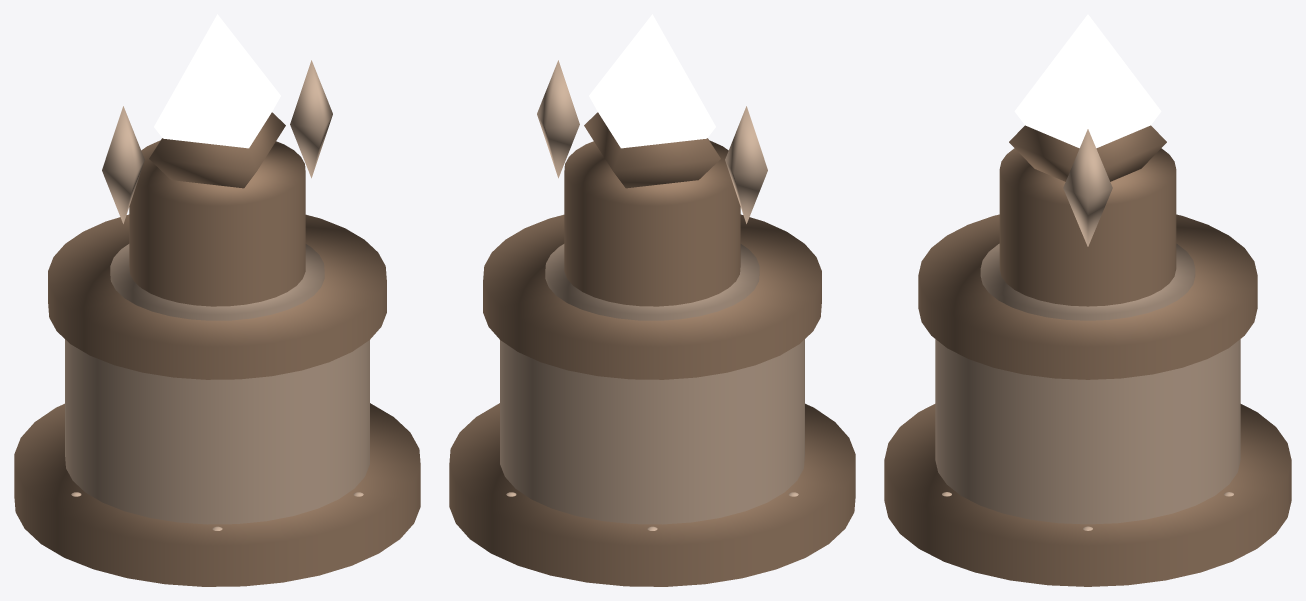
The model's file is arcane_l3.glb.
The picture shows the model from 3 angles, left to right: view 1: azimuth 30°, elevation 25°; view 2: azimuth 150°, elevation 25°; view 3: azimuth 270°, elevation 25°; orthographic projection.
Parts seen in each view (by area): view 1: base, footing, baseCollar, shaft, spinCrystal, support, lowerTrim, shardR, shardL; view 2: base, footing, baseCollar, shaft, spinCrystal, support, lowerTrim, shardR, shardL; view 3: base, footing, baseCollar, shaft, spinCrystal, lowerTrim, support, shardR.
Boxes of the visible parts, bbox=[...] form: base: bbox=[65, 339, 369, 524]; footing: bbox=[14, 403, 420, 586]; baseCollar: bbox=[48, 214, 386, 379]; shaft: bbox=[129, 140, 305, 306]; spinCrystal: bbox=[154, 14, 280, 148]; support: bbox=[149, 112, 285, 188]; lowerTrim: bbox=[110, 244, 324, 320]; shardR: bbox=[290, 60, 332, 178]; shardL: bbox=[102, 106, 144, 223]; base: bbox=[500, 339, 804, 524]; footing: bbox=[449, 403, 855, 586]; baseCollar: bbox=[483, 214, 821, 379]; shaft: bbox=[564, 140, 740, 306]; spinCrystal: bbox=[589, 14, 715, 148]; support: bbox=[584, 112, 720, 188]; lowerTrim: bbox=[545, 244, 759, 320]; shardR: bbox=[537, 60, 579, 178]; shardL: bbox=[725, 106, 767, 223]; base: bbox=[935, 339, 1240, 524]; footing: bbox=[884, 404, 1291, 586]; baseCollar: bbox=[918, 214, 1257, 379]; shaft: bbox=[999, 148, 1176, 306]; spinCrystal: bbox=[1014, 14, 1161, 148]; lowerTrim: bbox=[980, 243, 1195, 320]; support: bbox=[1009, 125, 1166, 181]; shardR: bbox=[1063, 129, 1112, 246].
Size of the model in its own units: 1.8 by 2.38 by 1.8.
